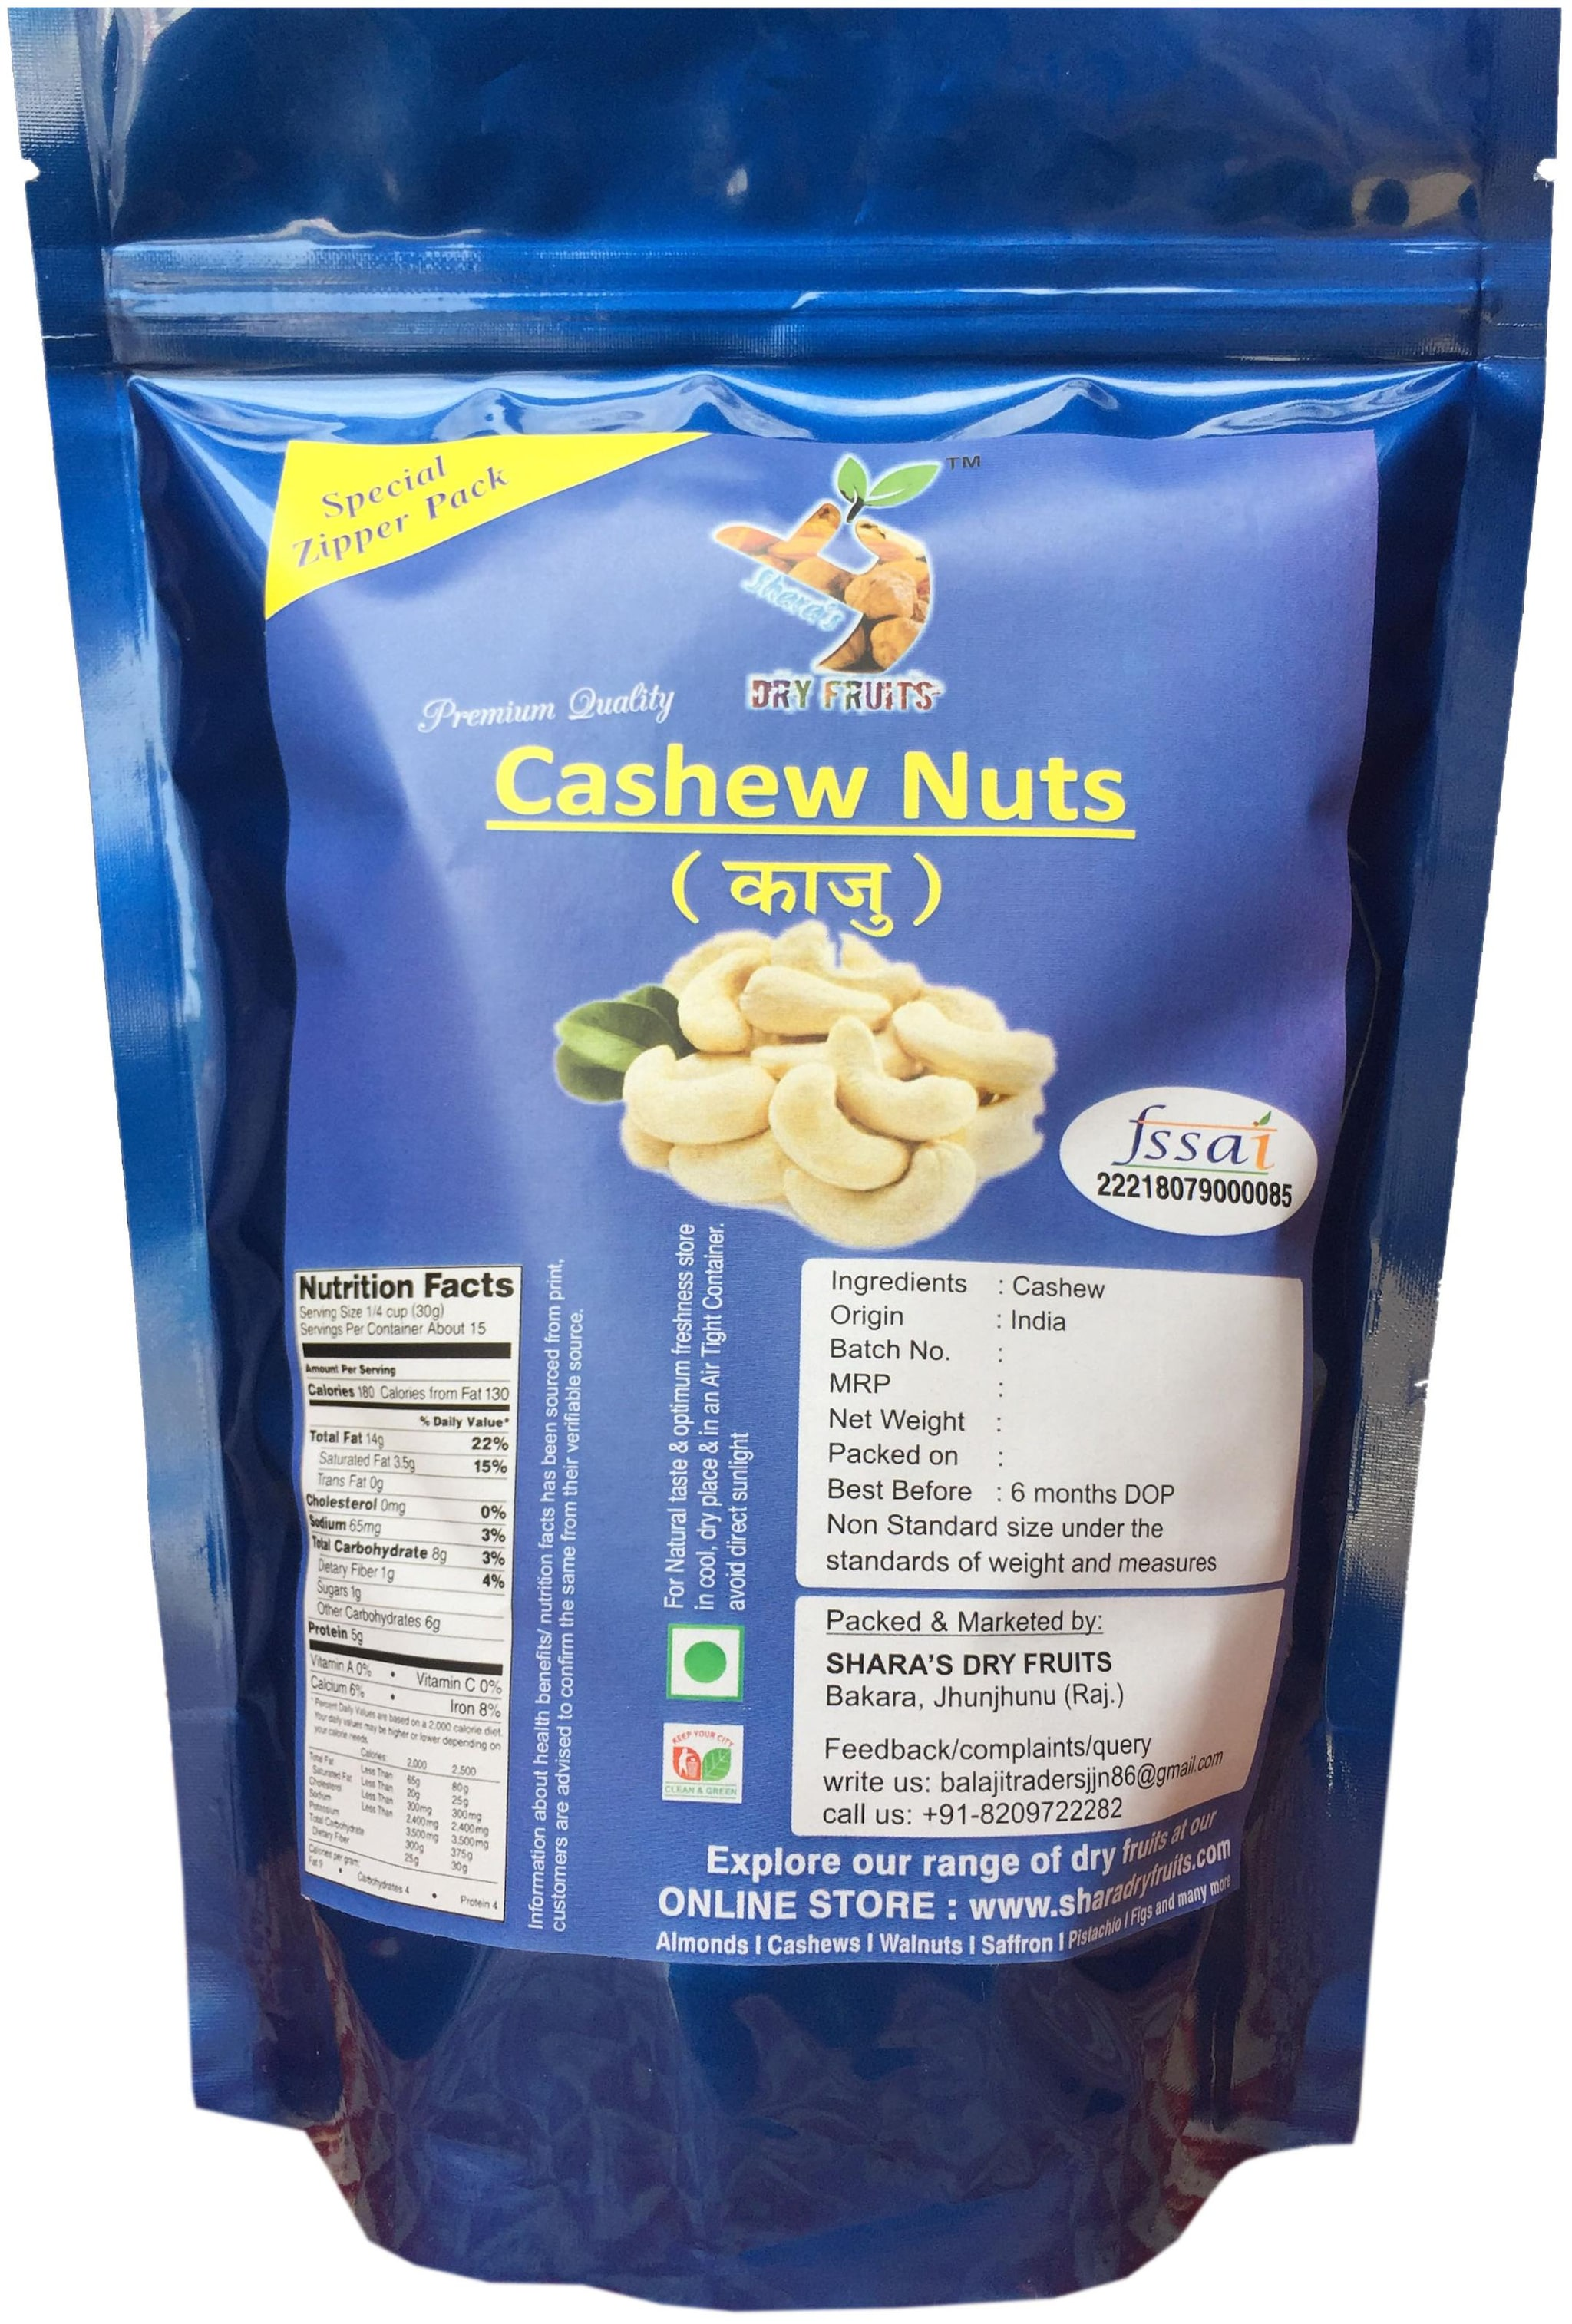fssai: (1112, 1105, 1272, 1172)
